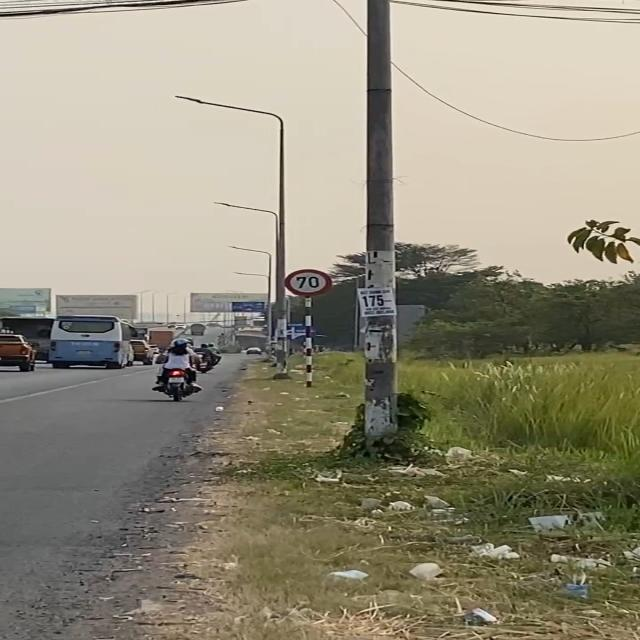127-toc-do-toi-da-70: (283, 268, 334, 297)
